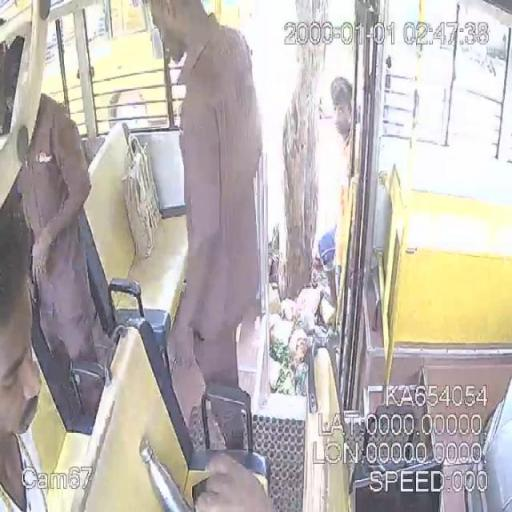persona: (147, 0, 266, 418), (0, 178, 48, 511), (327, 76, 362, 326)
